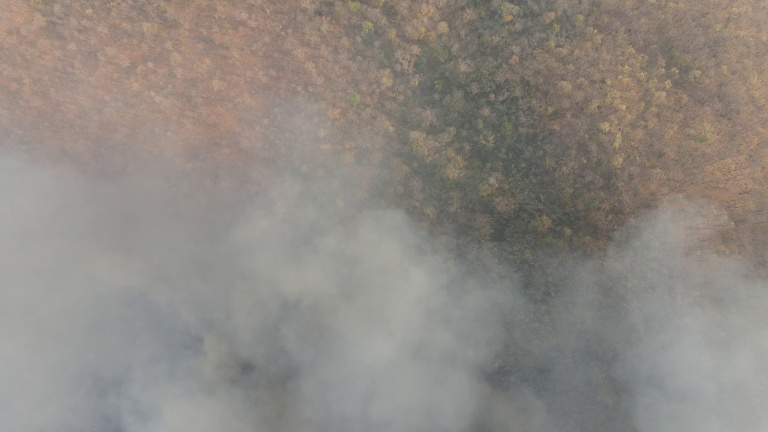smoke: (1, 151, 468, 432), (611, 214, 768, 427)
